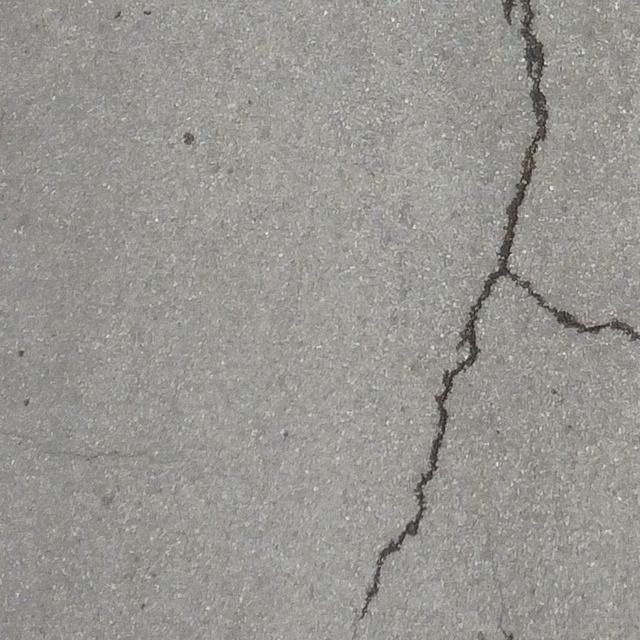LongitudinalCrack: (357, 1, 551, 621)
TransverseCrack: (509, 270, 640, 341)
